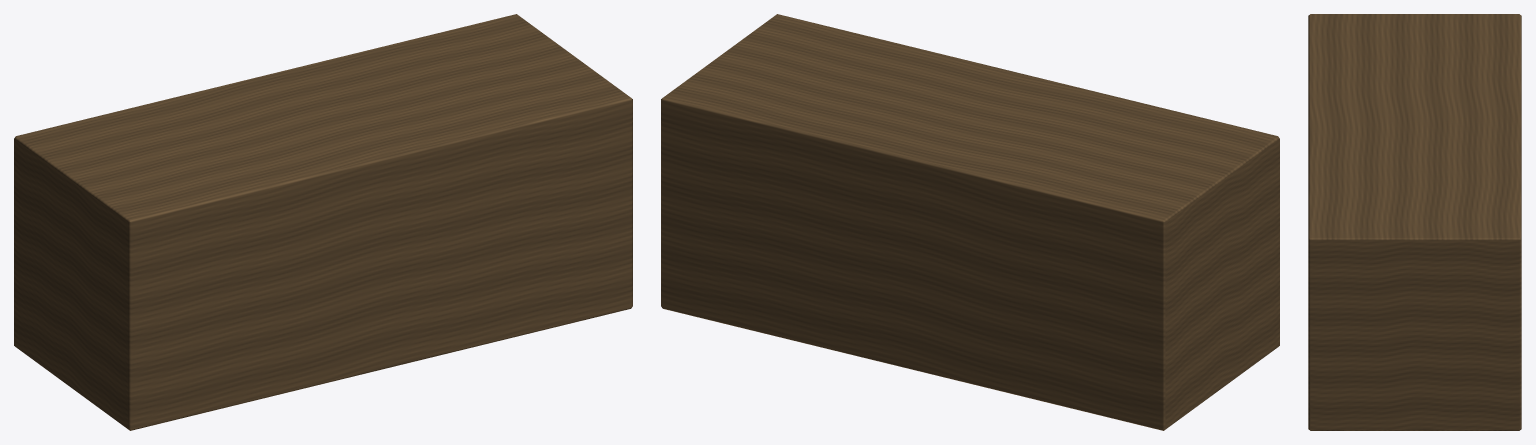
Rendered from beam.glb.
3 views of the same model, side by side, from view 1: azimuth 30°, elevation 25°; view 2: azimuth 150°, elevation 25°; view 3: azimuth 270°, elevation 25° (orthographic). The views are drawn at different scales.
Parts seen in each view (by area): view 1: beam; view 2: beam; view 3: beam.
Boxes of the visible parts, left/top/right/bottom form: beam: left=14, top=14, right=632, bottom=430; beam: left=661, top=14, right=1279, bottom=430; beam: left=1308, top=14, right=1521, bottom=430.
Size of the model in its own units: 1 by 0.4 by 0.4.
Materials: 1 (1 with a texture image).
